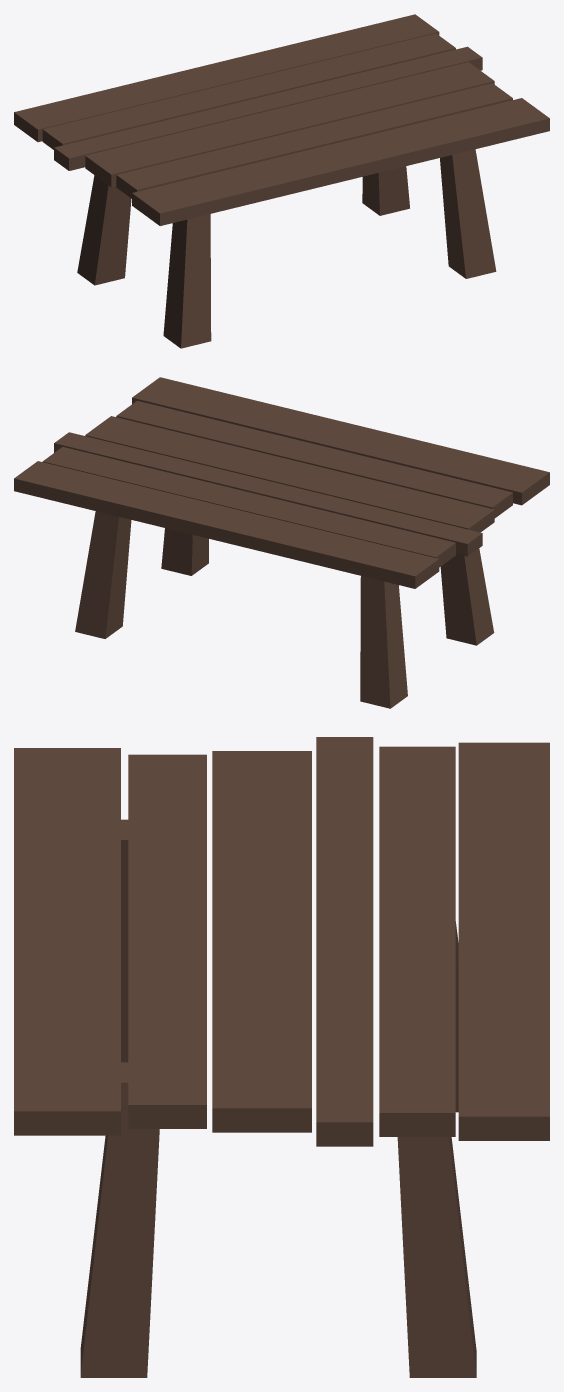
The model's file is table rectangle.FBX.
3 renders of one model, top to bottom at view 1: azimuth 30°, elevation 25°; view 2: azimuth 150°, elevation 25°; view 3: azimuth 270°, elevation 25°, orthographic. The views are drawn at different scales.
Visible parts, largest first — view 1: table rectangle; view 2: table rectangle; view 3: table rectangle.
Part boxes in pixels (x1,y1,x2,y2): table rectangle: (14,14,549,348); table rectangle: (14,377,549,708); table rectangle: (14,737,549,1377).
Bounding box in the file's own units: 171 × 62.06 × 100.
1 material, 1 textured.
